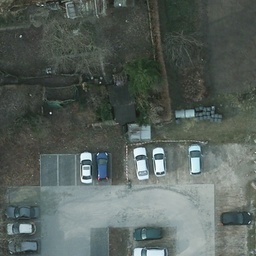car: (131, 225, 164, 241), (7, 221, 36, 238), (7, 238, 36, 255), (4, 204, 39, 218), (221, 210, 252, 225), (152, 145, 166, 178), (186, 145, 201, 174), (79, 149, 91, 183), (135, 146, 146, 179), (95, 151, 107, 180), (133, 248, 168, 256)
